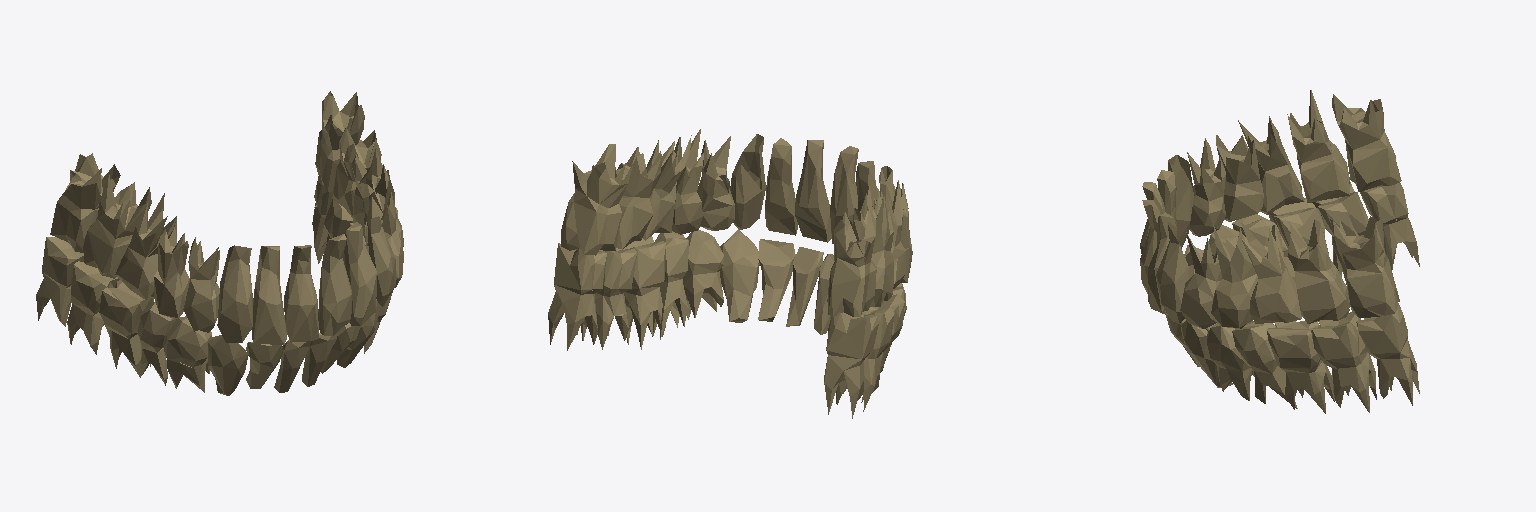
Rendered from Dentadura.obj.
3 renders of one model, left to right at view 1: azimuth 30°, elevation 25°; view 2: azimuth 150°, elevation 25°; view 3: azimuth 270°, elevation 25°, orthographic.
Visible parts, largest first — view 1: Modelo_Dientes; view 2: Modelo_Dientes; view 3: Modelo_Dientes.
Part boxes in pixels (x1,y1,x2,y2): Modelo_Dientes: (36, 91, 403, 395); Modelo_Dientes: (548, 129, 912, 418); Modelo_Dientes: (1140, 90, 1419, 413).
Bounding box in the file's own units: 0.2521 × 0.1606 × 0.1963.